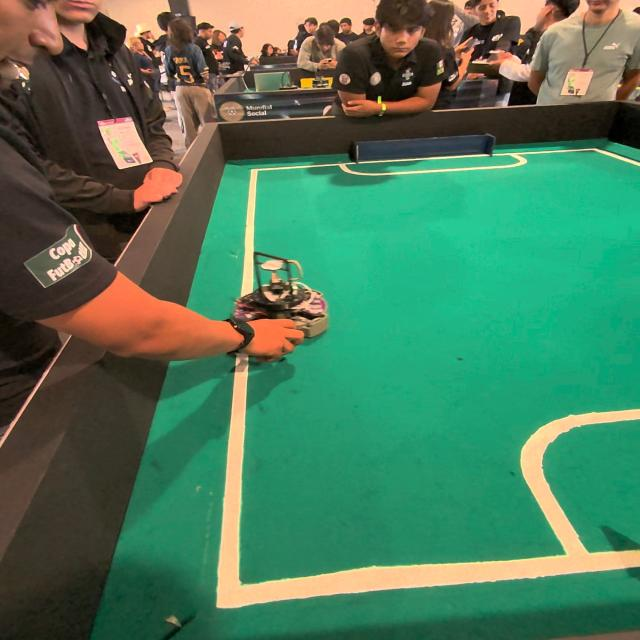Robot: (243, 246, 333, 343)
